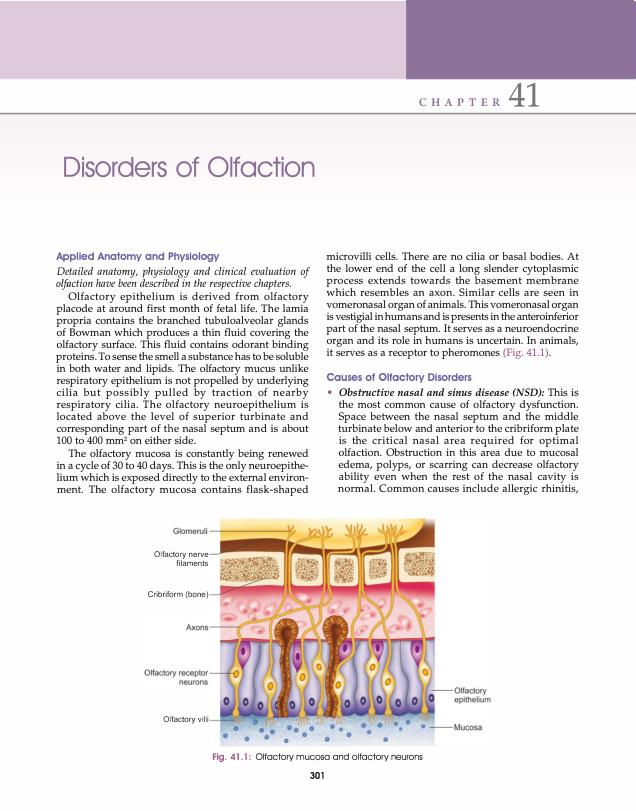caption: (211, 752, 423, 763)
chapter-heading: (61, 154, 317, 180)
image: (141, 515, 502, 750)
section-heading: (55, 250, 221, 263), (325, 370, 473, 384)
sub-section-heading: (337, 386, 546, 397)
text: (54, 265, 310, 498), (325, 250, 580, 360), (337, 387, 580, 496)
